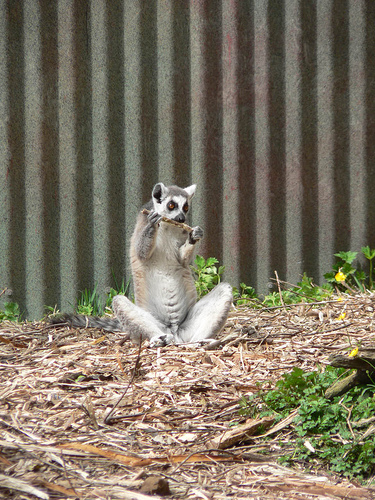cat: (110, 178, 236, 352)
